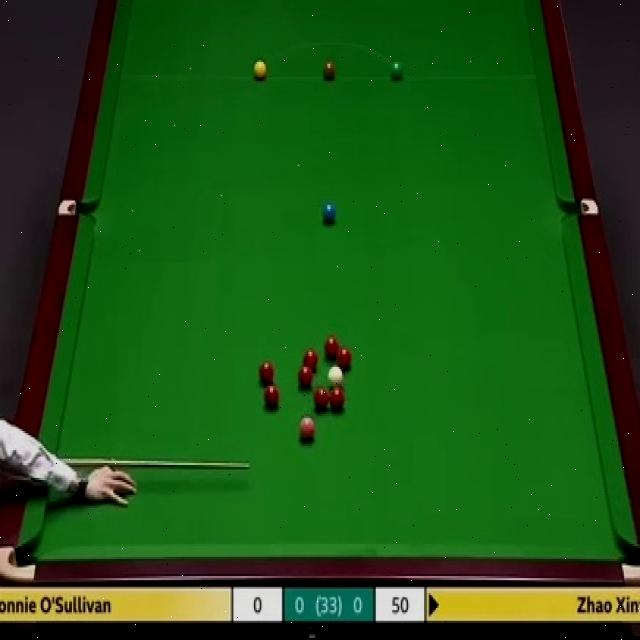blue-ball: (322, 200, 337, 227)
brown-ball: (322, 62, 336, 79)
green-ball: (391, 58, 406, 83)
pink-ball: (298, 414, 317, 445)
red-ball: (327, 388, 347, 412), (258, 361, 276, 386), (264, 384, 280, 410), (322, 336, 340, 359), (314, 388, 328, 416), (299, 367, 315, 391), (337, 348, 352, 372), (302, 349, 318, 371)
white-ball: (325, 364, 345, 390)
yellow-ball: (252, 58, 267, 80)
